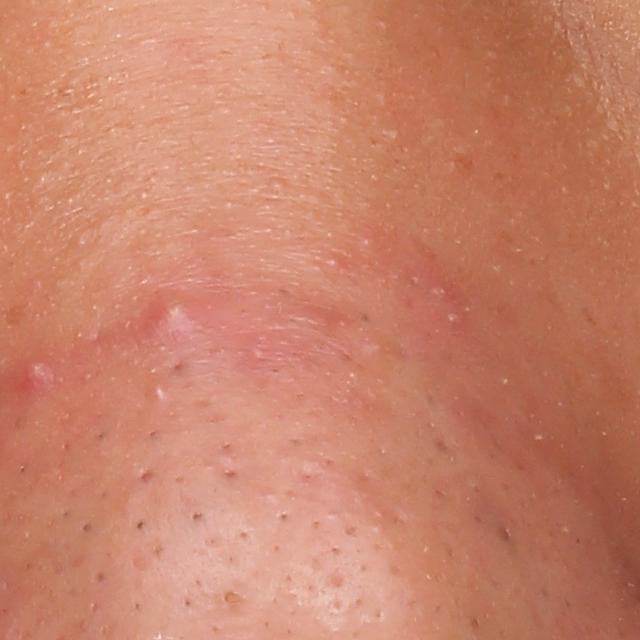atrophic_scar: (139, 465, 156, 486)
comedo: (275, 507, 295, 528), (222, 590, 244, 609), (188, 507, 208, 527), (77, 519, 97, 539), (131, 517, 150, 534)
papule: (19, 360, 54, 388)
